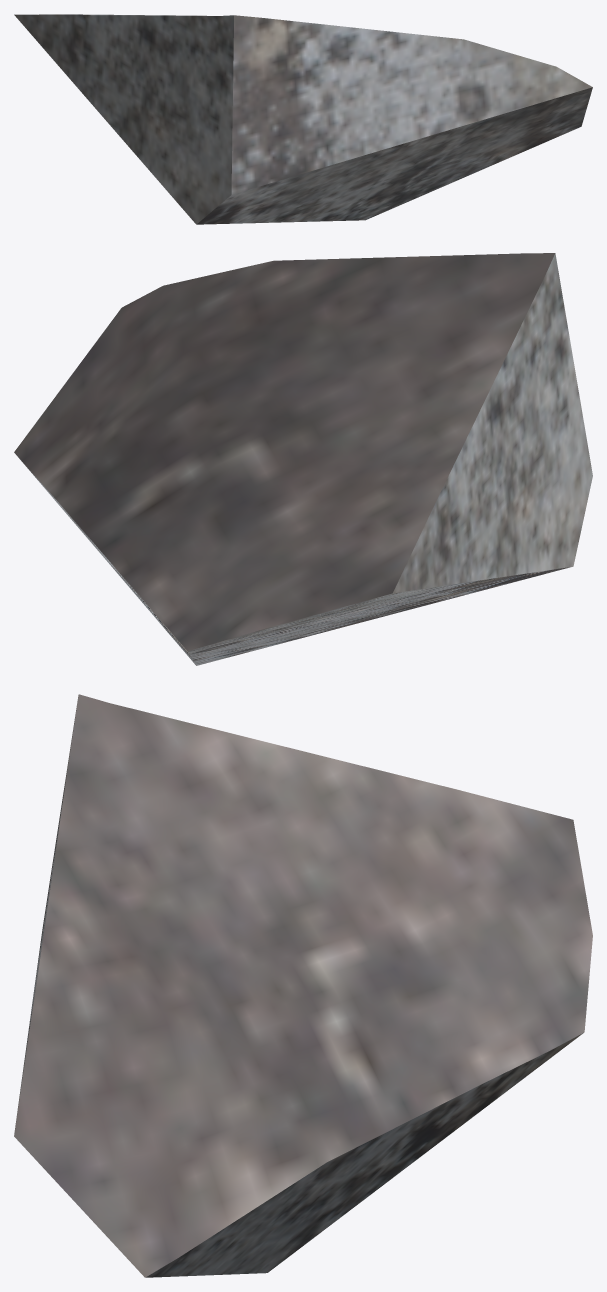
The model's file is Asteroid_Large_001_02_011_03_008.fbx.
The picture shows the model from 3 angles, top to bottom: view 1: azimuth 30°, elevation 25°; view 2: azimuth 150°, elevation 25°; view 3: azimuth 270°, elevation 25°; orthographic projection. The views are drawn at different scales.
Visible parts, largest first — view 1: Asteroid_Large_001_02_011_03_008; view 2: Asteroid_Large_001_02_011_03_008; view 3: Asteroid_Large_001_02_011_03_008.
Boxes of the visible parts, bbox=[...] form: Asteroid_Large_001_02_011_03_008: bbox=[14, 14, 592, 224]; Asteroid_Large_001_02_011_03_008: bbox=[14, 253, 592, 665]; Asteroid_Large_001_02_011_03_008: bbox=[14, 694, 592, 1277].
Size of the model in its own units: 5.53 by 3.77 by 4.5.
